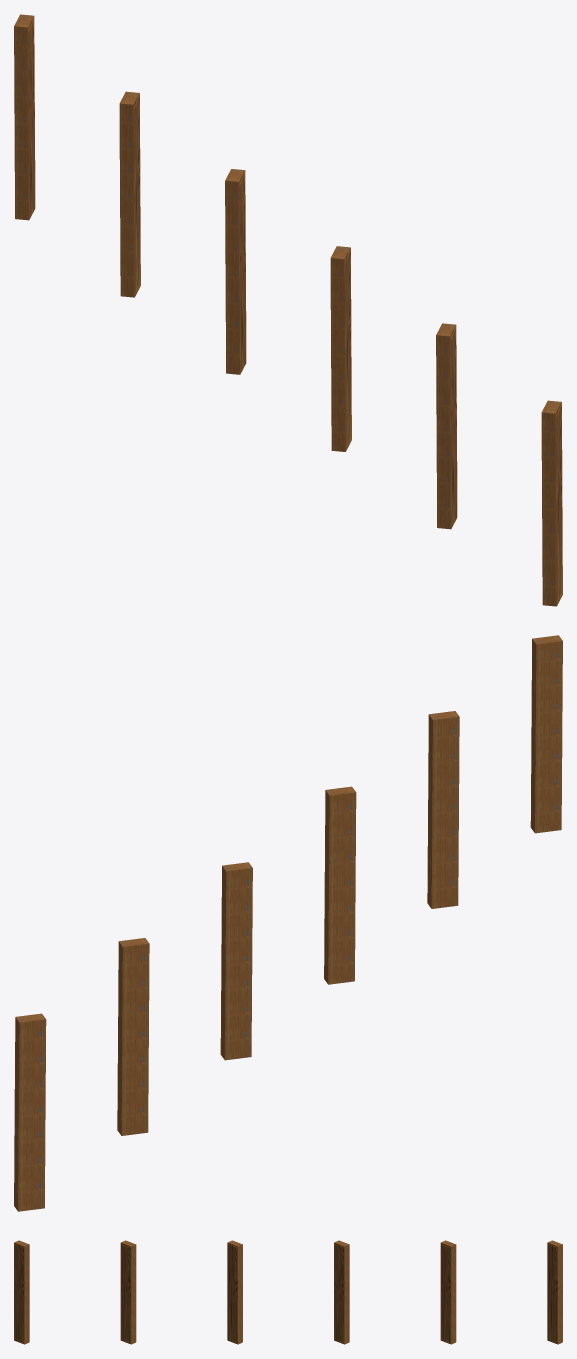
The picture shows the model from 3 angles, top to bottom: view 1: azimuth 30°, elevation 25°; view 2: azimuth 150°, elevation 25°; view 3: azimuth 270°, elevation 25°; orthographic projection. The views are drawn at different scales.
Parts seen in each view (by area): view 1: Cube.1895; view 2: Cube.1895; view 3: Cube.1895.
Part boxes in pixels (left/top/right/bottom): Cube.1895: left=14, top=14, right=562, bottom=606; Cube.1895: left=14, top=635, right=562, bottom=1211; Cube.1895: left=14, top=1240, right=562, bottom=1344.
Size of the model in its own units: 20.96 by 143 by 726.
1 material, 1 textured.
